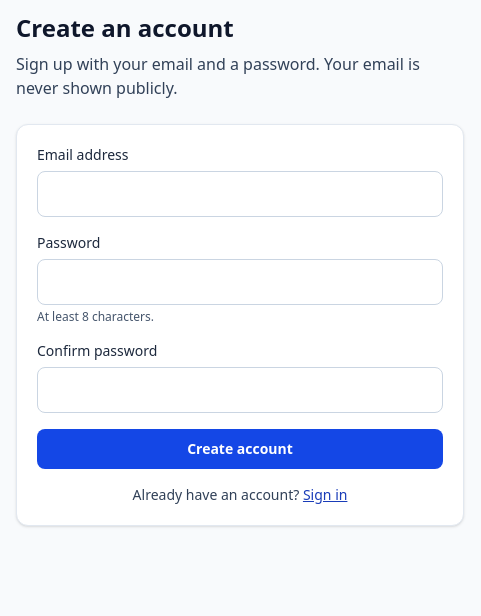
Test: SignUpPage › validates email, password length and confirmation
In the field labelled "Email address": [240, 194] box [37, 171, 443, 217], type "not-an-email"
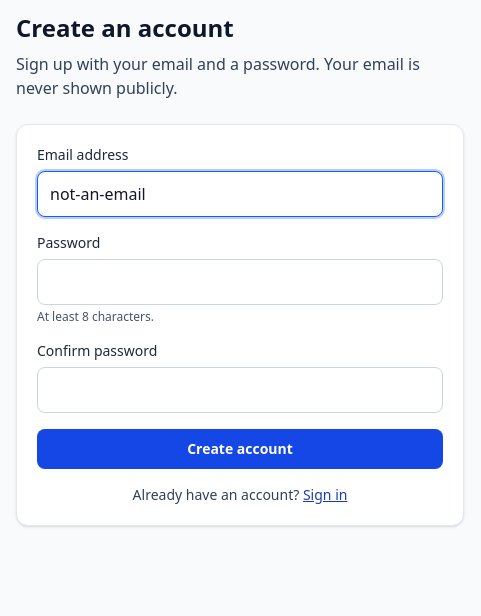
In the password field labelled "Password": [240, 282] box [37, 259, 443, 305], type "short"
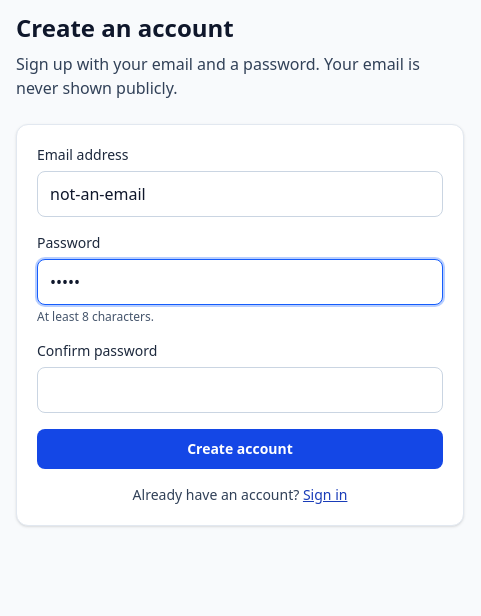
In the password field labelled "Confirm password": [240, 390] box [37, 367, 443, 413], type "other"
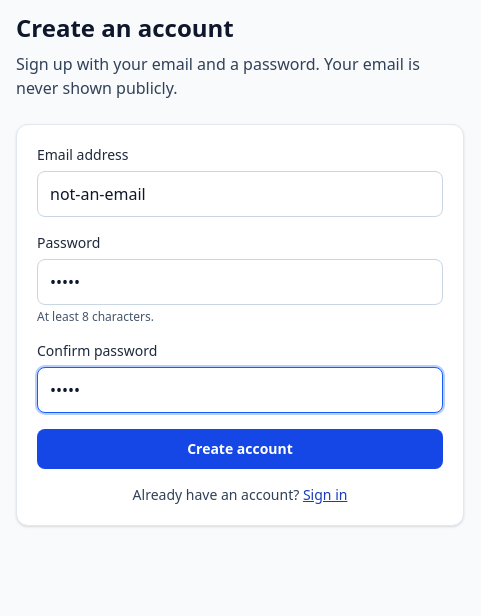
Click the button "Create account": [240, 449] box [37, 429, 443, 469]
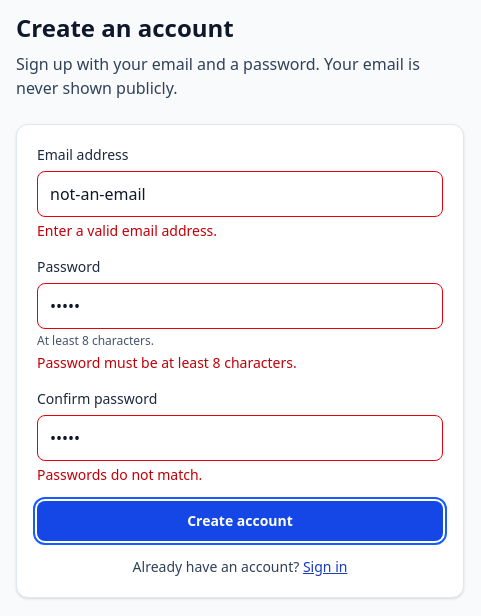
Check: the text "Enter a valid email address." is shown, box [37, 221, 217, 240]
Check: the text "Password must be at least 8 characters." is shown, box [37, 353, 297, 372]
Check: the text "Passwords do not match." is shown, box [37, 465, 202, 484]
